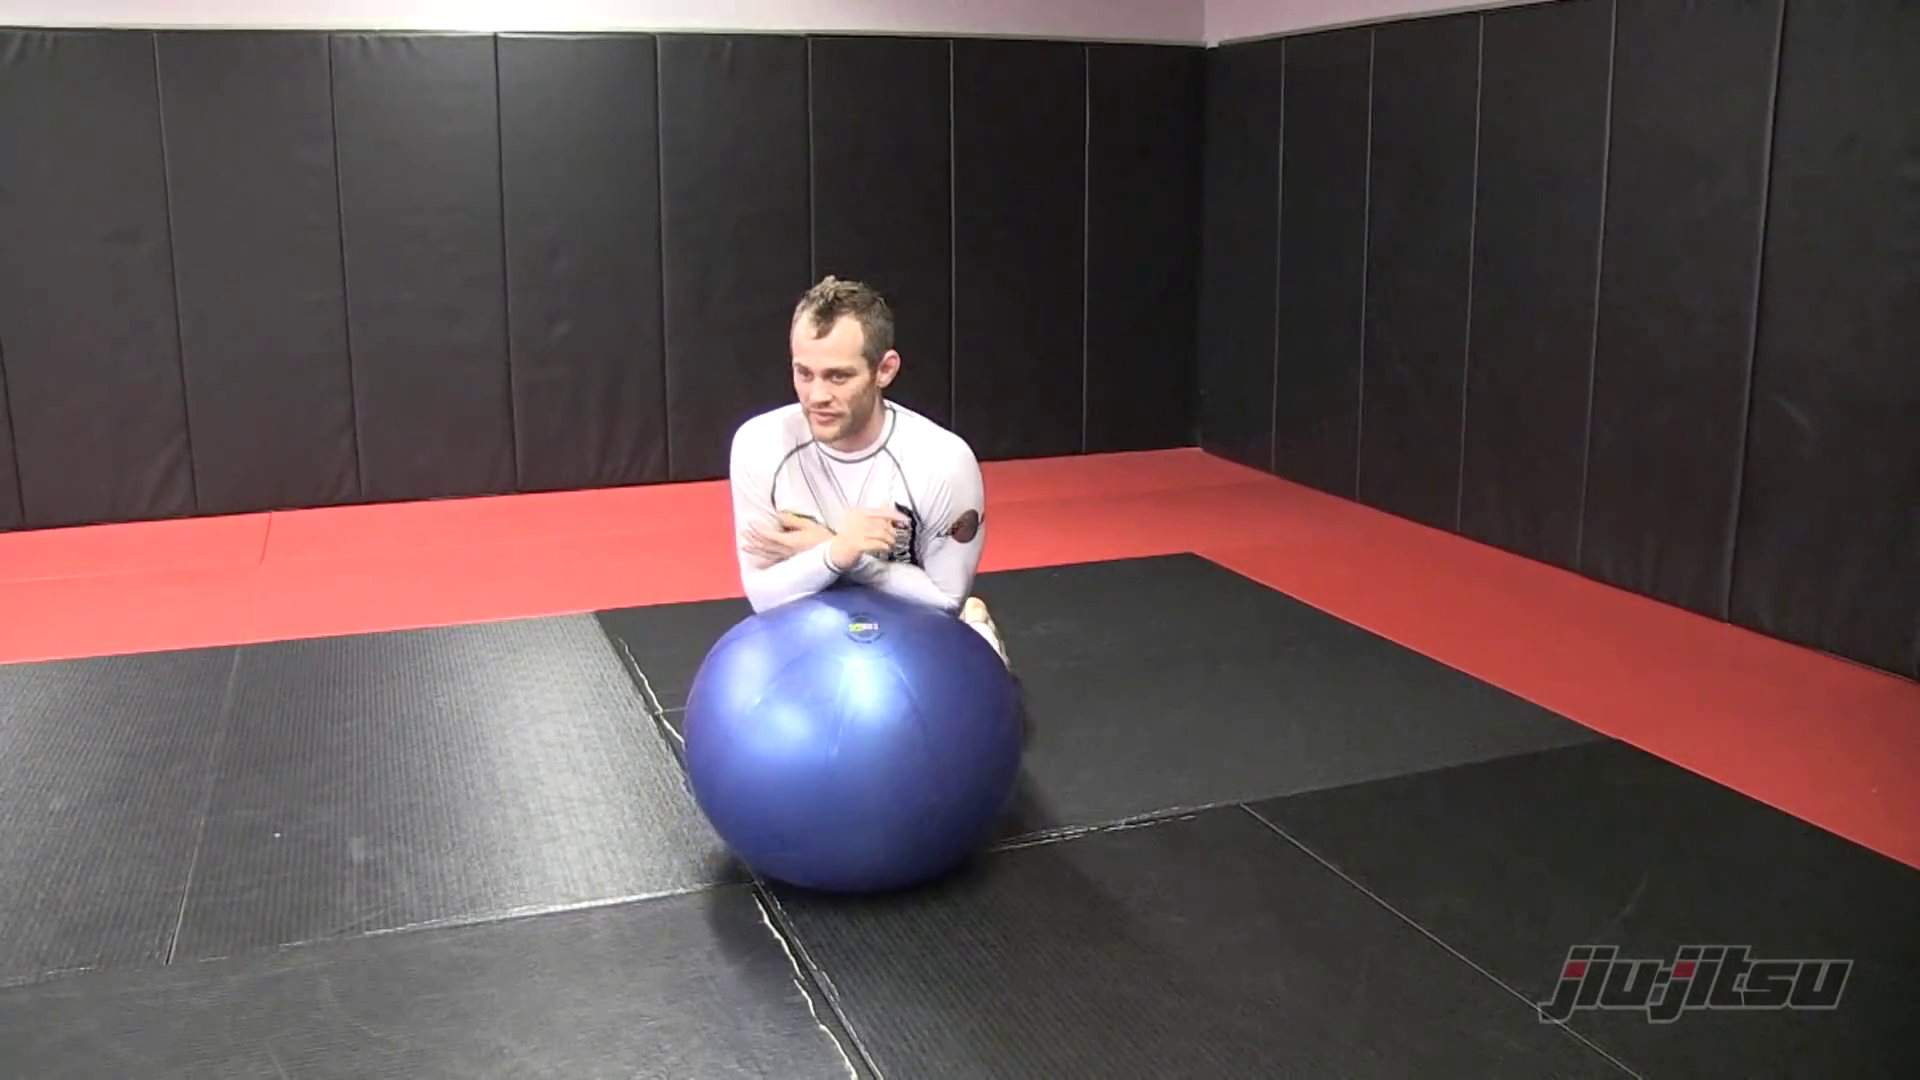yogaball: (673, 589, 1046, 911)
